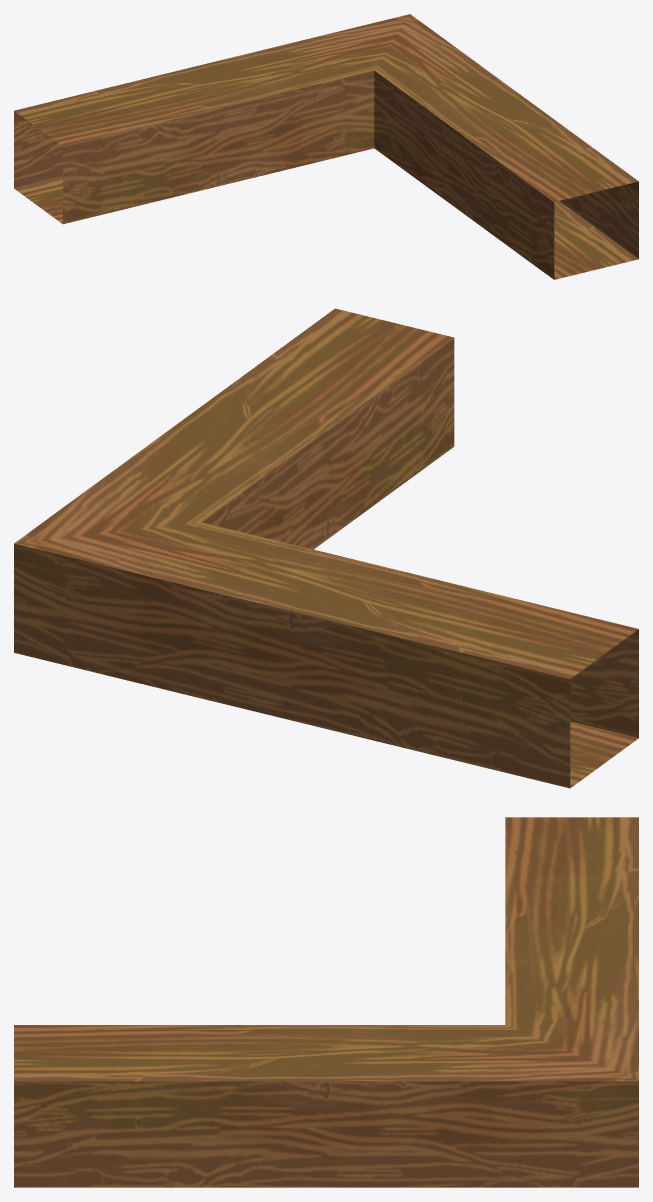
The model's file is hole_cover_90_half.gltf.
3 views of the same model, one above another, from view 1: azimuth 30°, elevation 25°; view 2: azimuth 150°, elevation 25°; view 3: azimuth 270°, elevation 25° (orthographic). The views are drawn at different scales.
Parts seen in each view (by area): view 1: HoleCover_90Half; view 2: HoleCover_90Half; view 3: HoleCover_90Half.
Part boxes in pixels (x1,y1,x2,y2): HoleCover_90Half: (14,14,638,279); HoleCover_90Half: (14,308,638,788); HoleCover_90Half: (14,817,638,1187).
Bounding box in the file's own units: 1.12 × 0.2102 × 1.12.
1 material, 1 textured.
